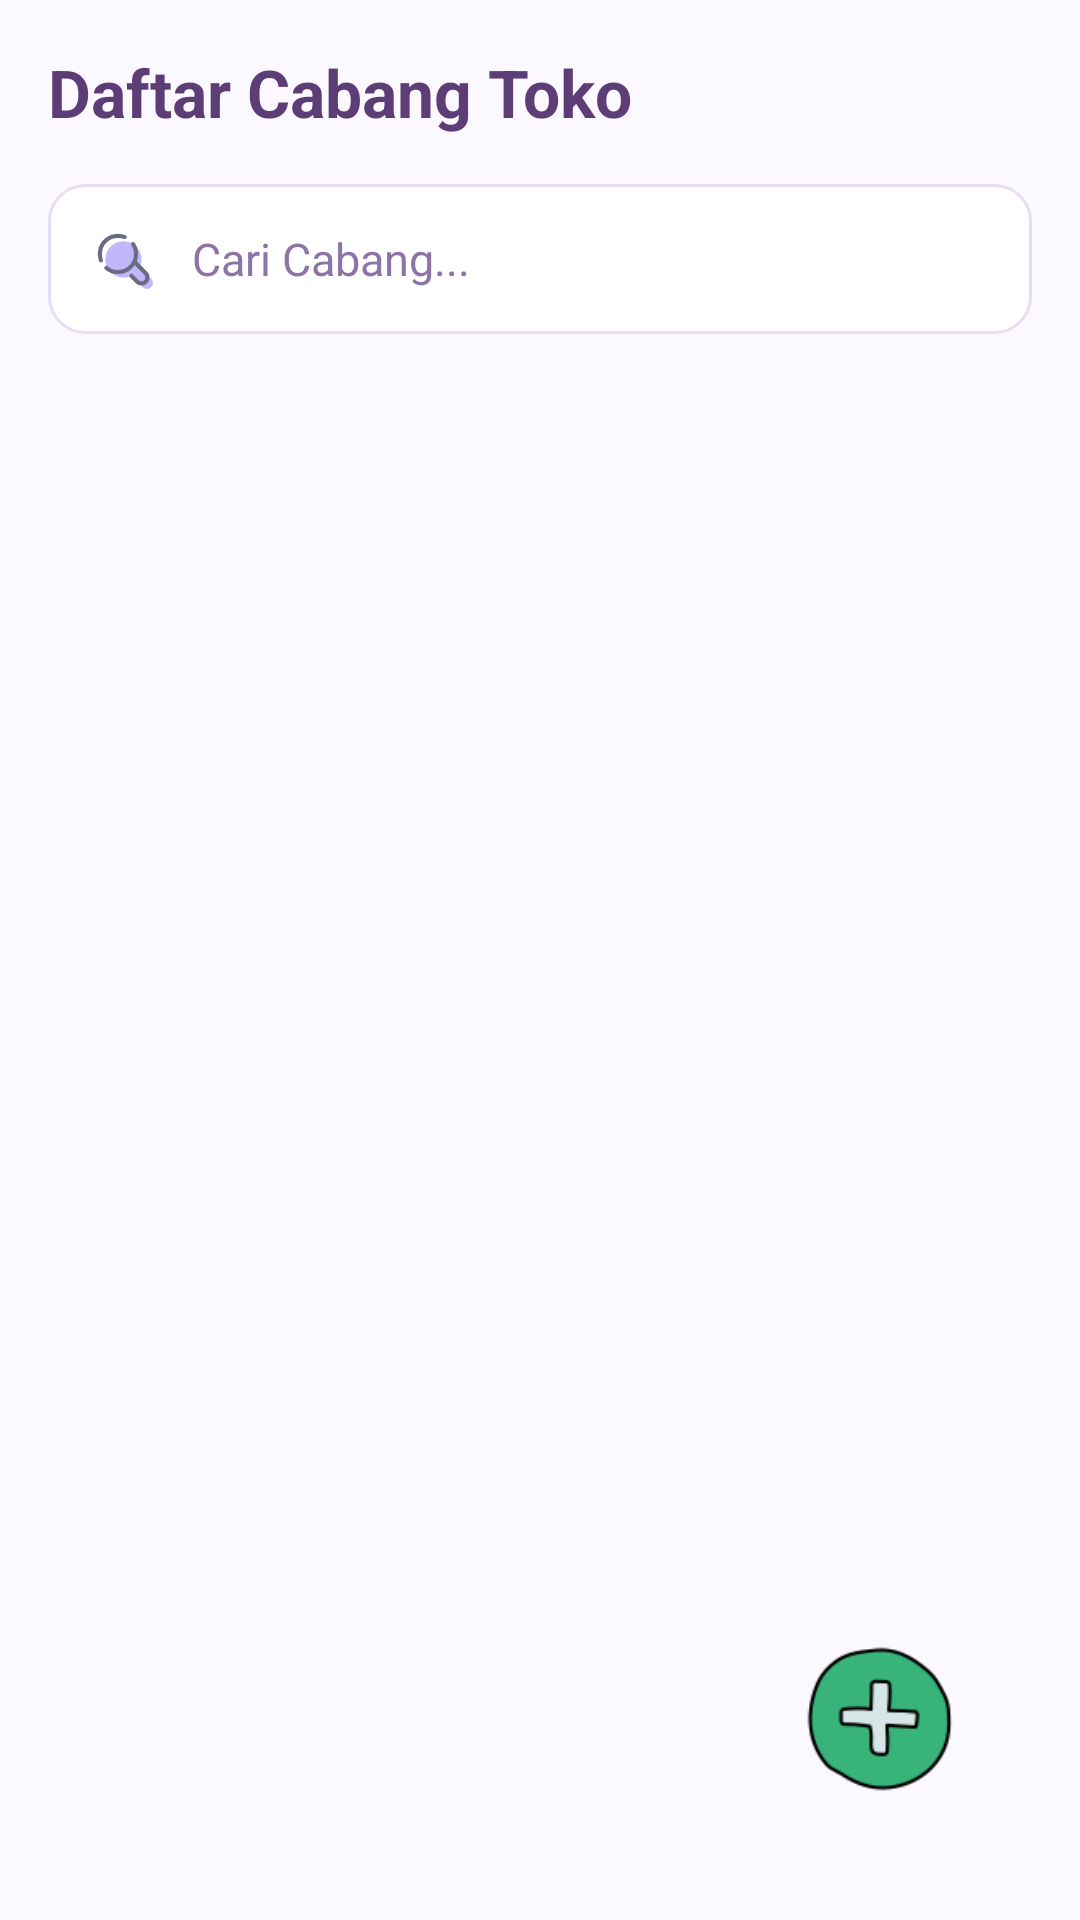

Icons on this 1080 × 1920 Android screen, each with the point to tap as point (x, y):
search: point (125, 261)
Tambah cabang: point (879, 1719)
